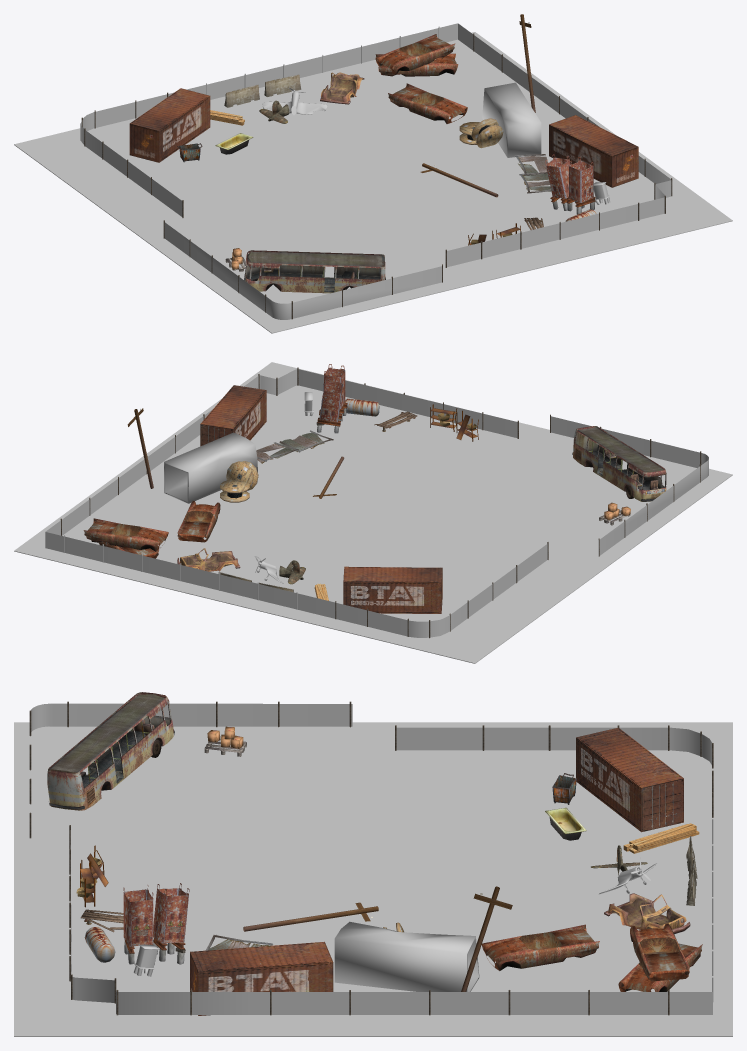
The model's file is Junk yard.fbx.
3 renders of one model, top to bottom at view 1: azimuth 30°, elevation 25°; view 2: azimuth 150°, elevation 25°; view 3: azimuth 270°, elevation 25°, orthographic. The views are drawn at different scales.
Parts seen in each view (by area): view 1: Cube, default_16; view 2: Cube, default_16; view 3: Cube, default_16.
Part boxes in pixels (box(x1,y1,x2,y2)): Cube: box(14, 32, 732, 333); default_16: box(80, 14, 672, 319); Cube: box(14, 362, 732, 663); default_16: box(45, 364, 708, 638); Cube: box(14, 722, 732, 1036); default_16: box(29, 692, 713, 1015).
Bounding box in the file's own units: 28564 × 5347 × 27671.
